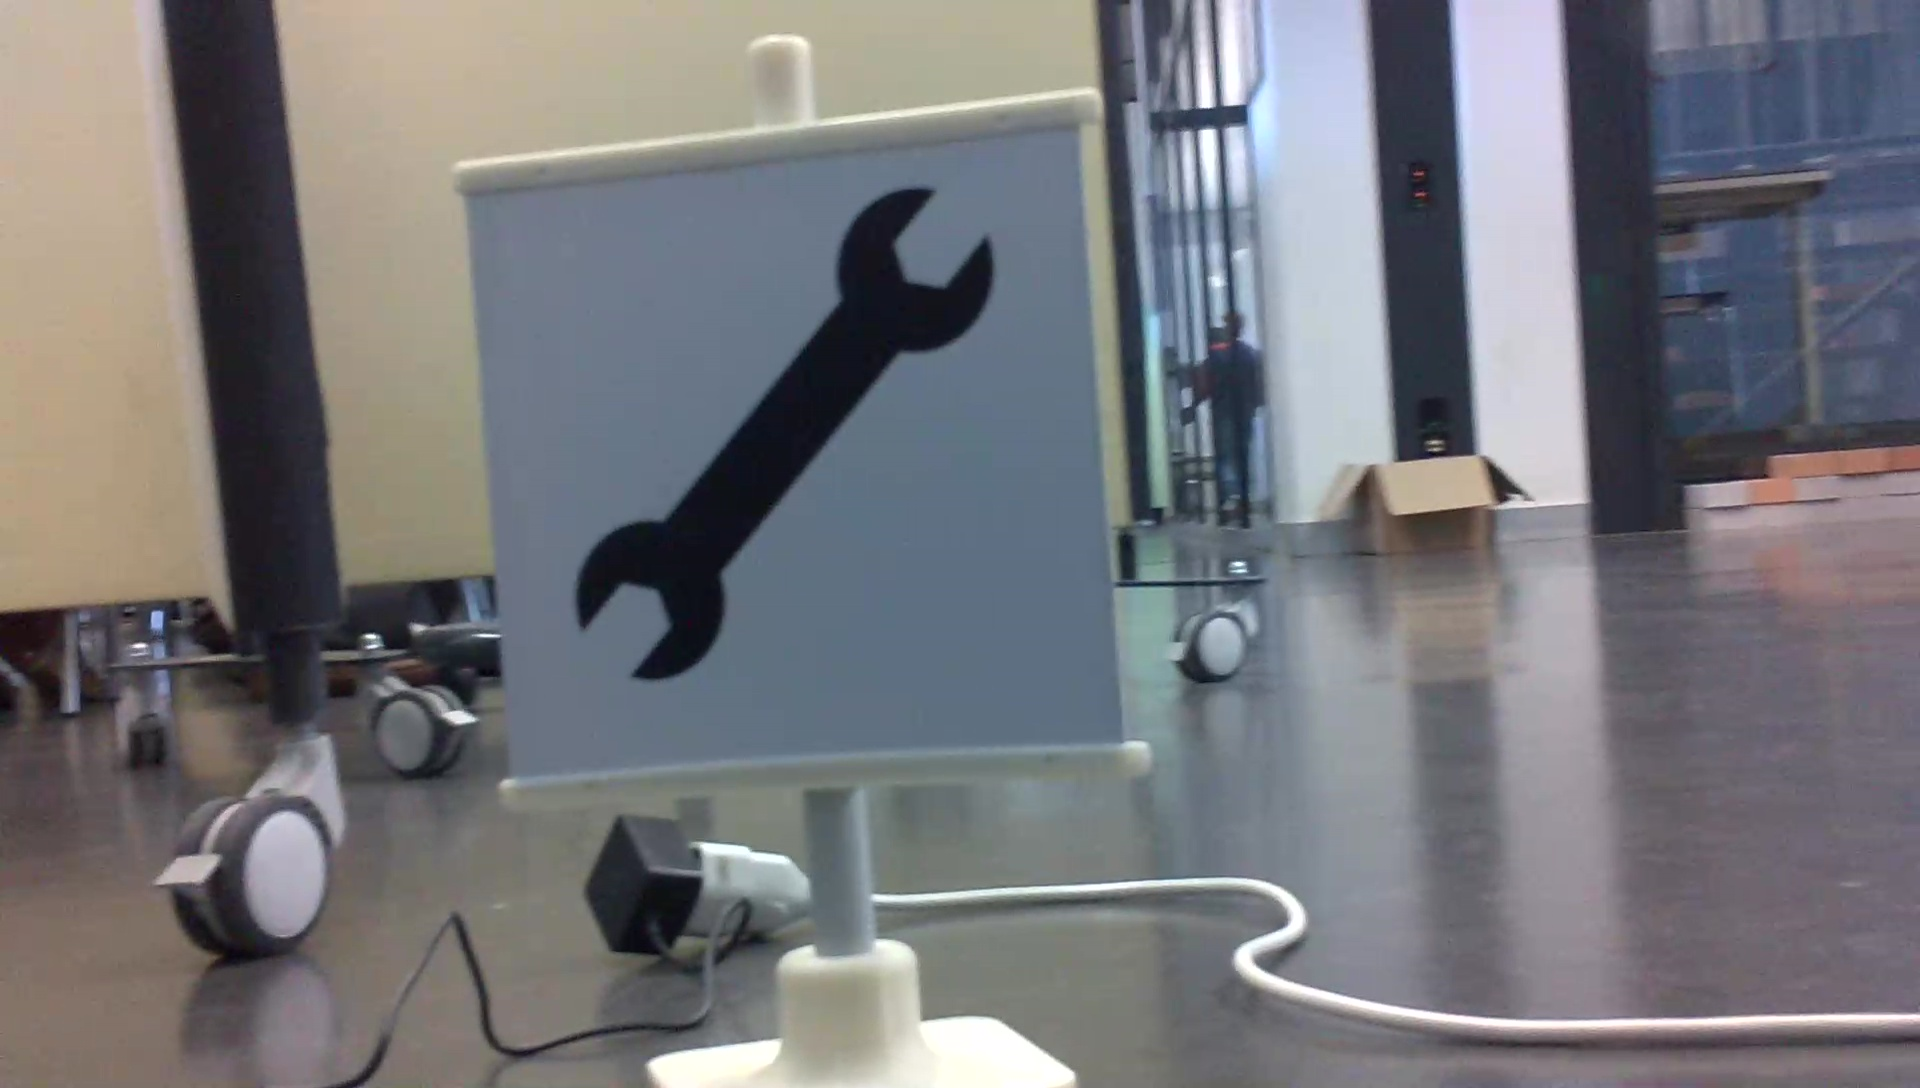wrench: (556, 178, 1004, 692)
